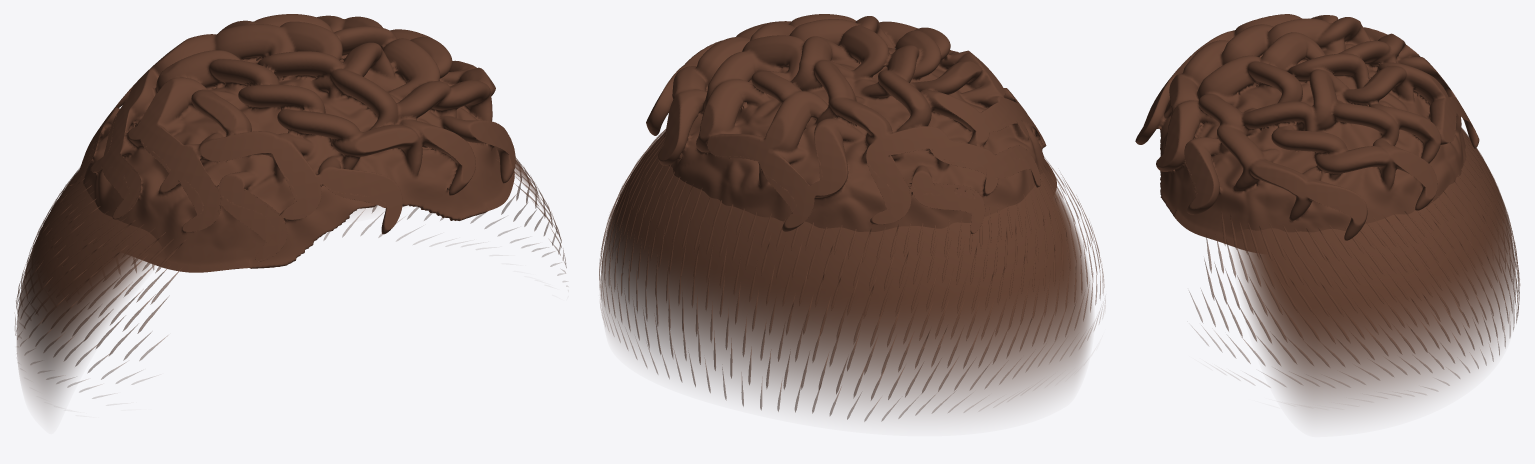
The model's file is Masculine-curly-top-beanie259-hair.glb.
The picture shows the model from 3 angles, left to right: view 1: azimuth 30°, elevation 25°; view 2: azimuth 150°, elevation 25°; view 3: azimuth 270°, elevation 25°; orthographic projection. The views are drawn at different scales.
Parts seen in each view (by area): view 1: 226 hair / Hair252 / sculpted curl groups, 226 hair / Hair258 / smooth side fade, 226 hair / Hair259 / directional fade marks214; view 2: 226 hair / Hair258 / smooth side fade, 226 hair / Hair252 / sculpted curl groups, 226 hair / Hair259 / directional fade marks214; view 3: 226 hair / Hair252 / sculpted curl groups, 226 hair / Hair258 / smooth side fade, 226 hair / Hair259 / directional fade marks214.
Boxes of the visible parts, x1,y1,x2,y2 form: 226 hair / Hair252 / sculpted curl groups: (68,14,515,272); 226 hair / Hair258 / smooth side fade: (16,160,545,411); 226 hair / Hair259 / directional fade marks214: (15,154,567,398); 226 hair / Hair258 / smooth side fade: (601,132,1092,415); 226 hair / Hair252 / sculpted curl groups: (646,14,1056,233); 226 hair / Hair259 / directional fade marks214: (599,128,1105,421); 226 hair / Hair252 / sculpted curl groups: (1135,14,1479,252); 226 hair / Hair258 / smooth side fade: (1233,129,1515,418); 226 hair / Hair259 / directional fade marks214: (1189,127,1520,394).
Size of the model in its own units: 0.9743 by 0.665 by 0.7505.
